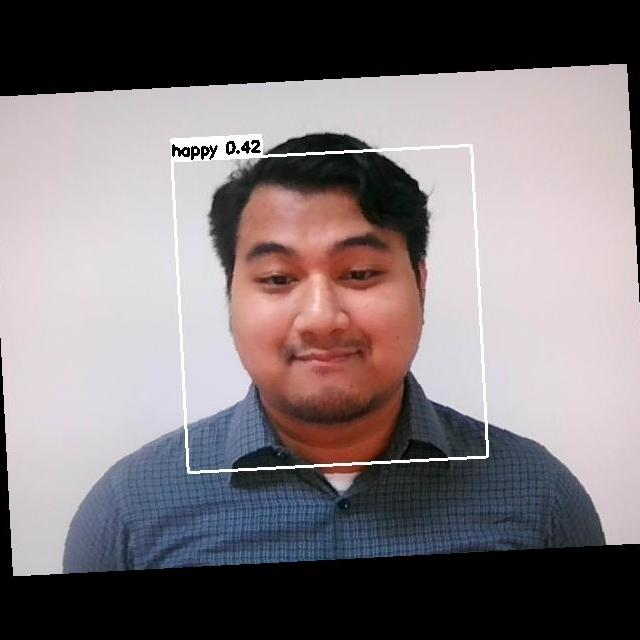Happy: (223, 218, 435, 401)
